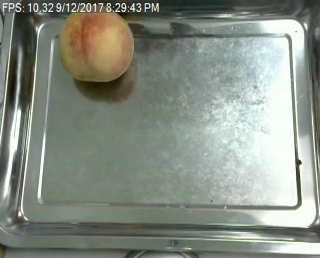Peach: (58, 4, 135, 83)
